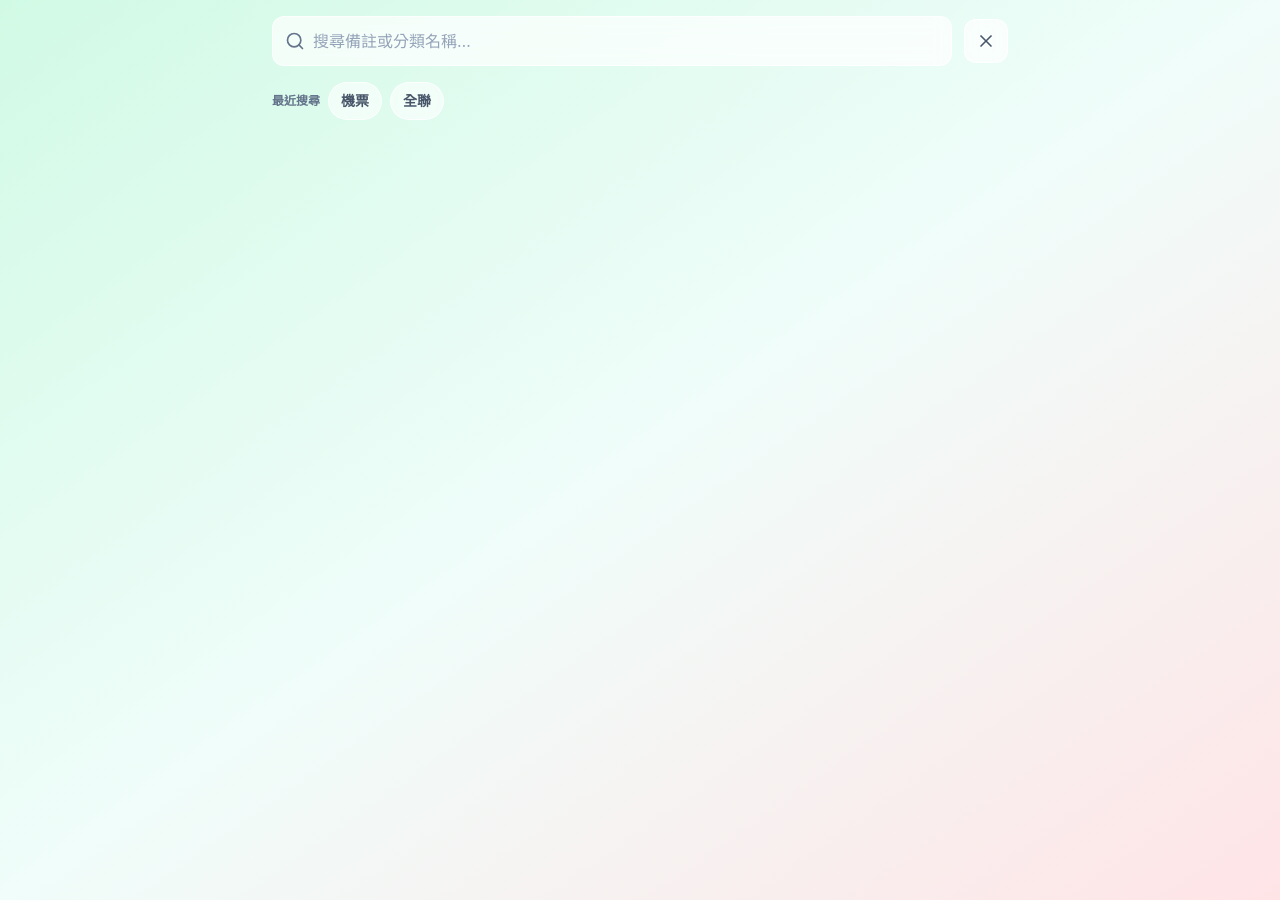
Test: 搜尋模式 › 輸入為空時顯示最近搜尋圓籤，點了帶入輸入框
Click the button "機票".
click(355, 101)  # box [328, 82, 382, 120]
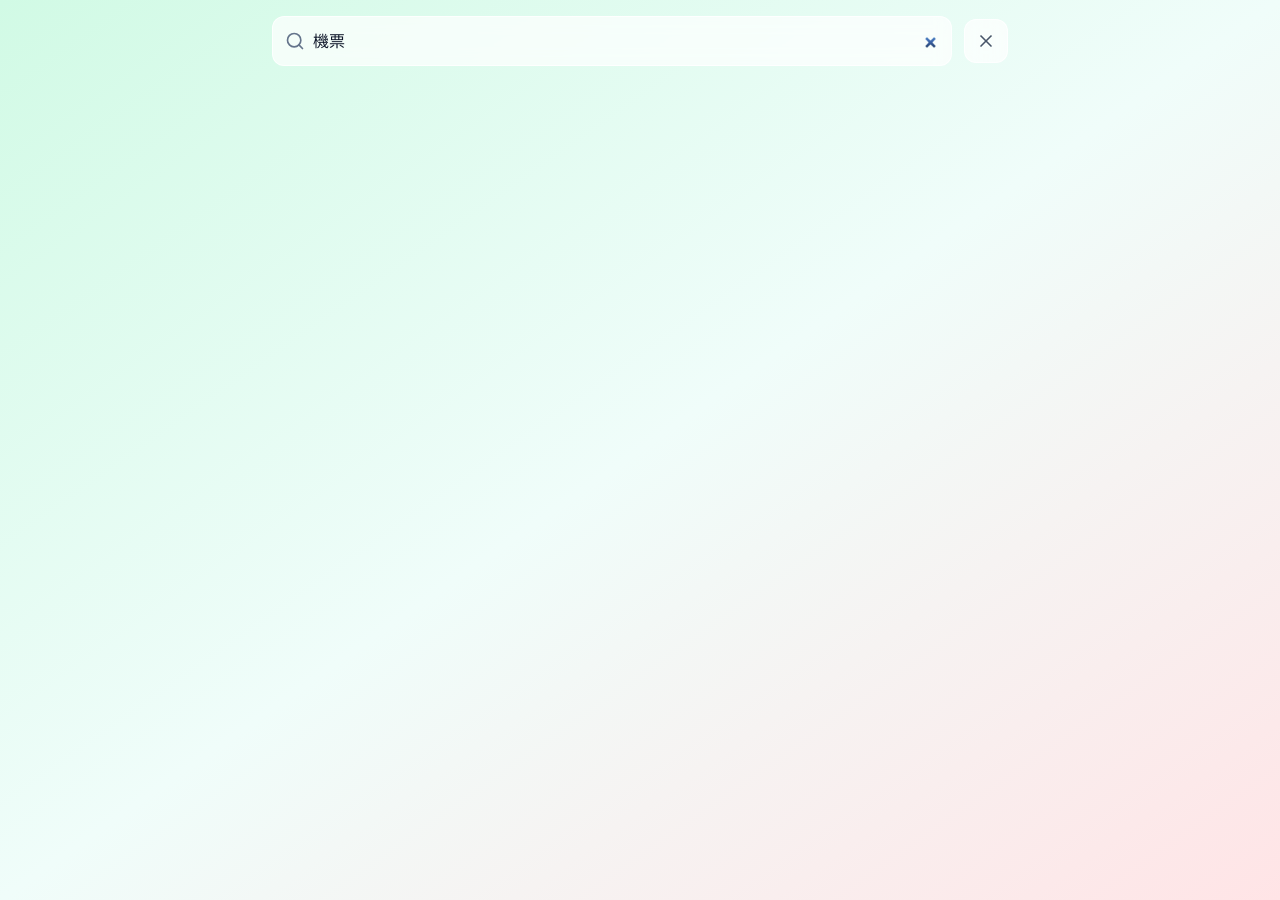
Expected: the search field holds "機票", [313, 29, 939, 53]
